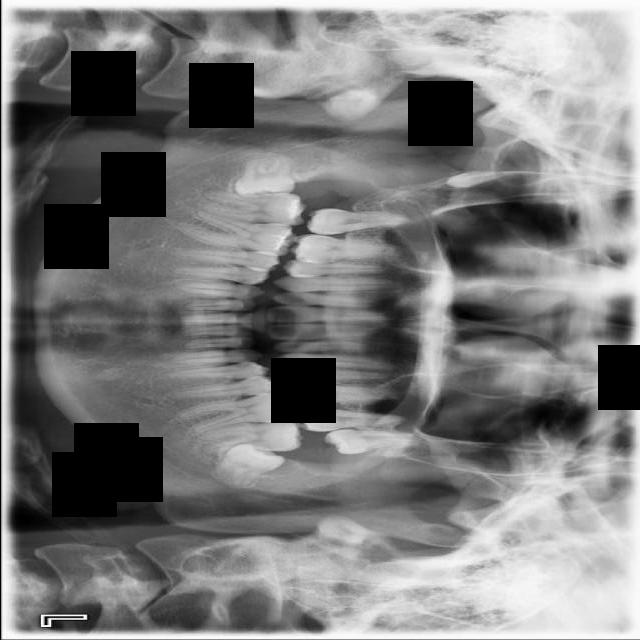52: (247, 223, 297, 256), (284, 380, 329, 407)
73: (57, 614, 77, 624)
BioHorizons Implant: (295, 407, 404, 432)
BioLife Implant: (323, 429, 420, 456)
Biomet 3i Implant: (205, 427, 287, 498)
Blue Sky Bio Implant: (199, 418, 304, 456)
Caries: (305, 208, 407, 235)
Implant: (200, 189, 306, 228)
Keystone Dental Implant: (231, 153, 296, 201)
